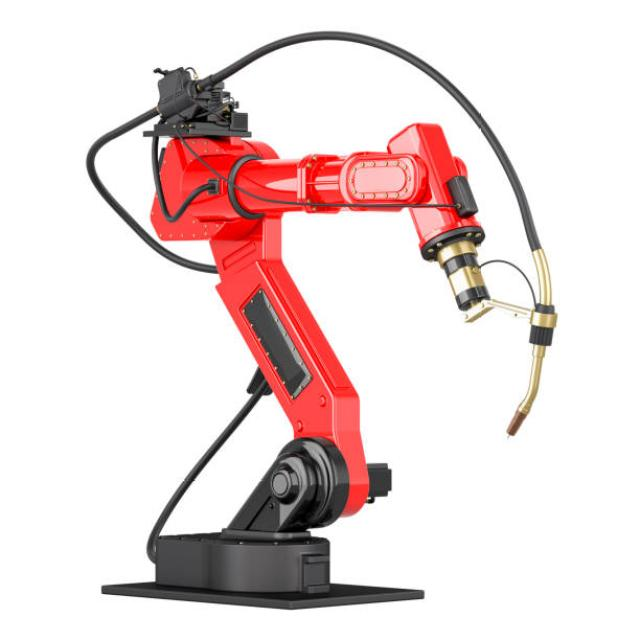Robotic-arm: (73, 23, 585, 612)
